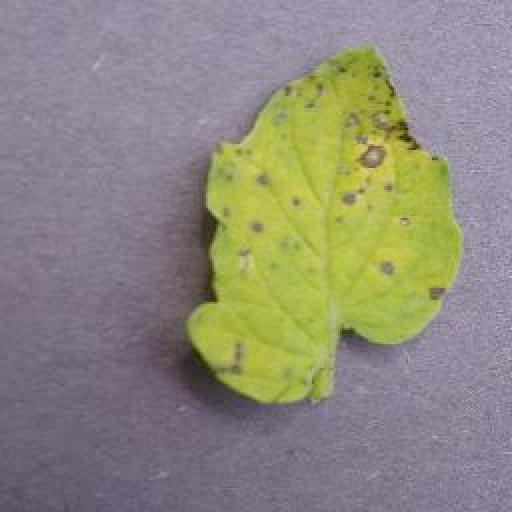disease_tomato: (184, 42, 466, 408)
